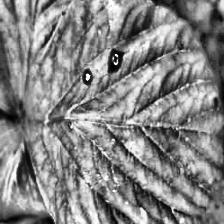Leaf Spot: (22, 0, 224, 224), (47, 153, 224, 223)
